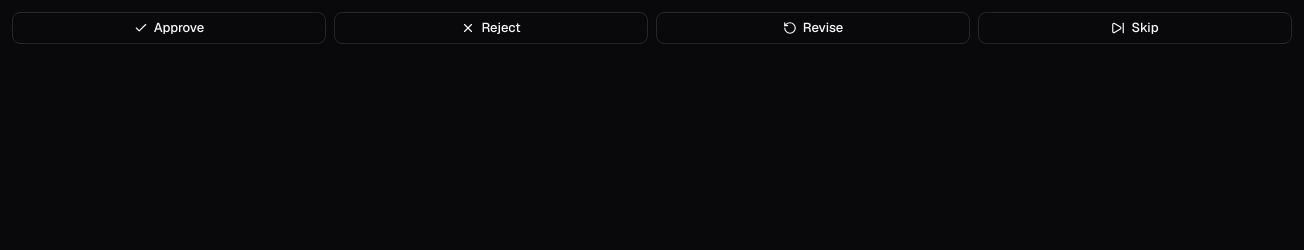
ReviewActions feedback_category required (Loop 8 close) › Confirm button is disabled when no issue is selected (Revise)
Click the button "Revise": (813, 28) x1=656 y1=12 x2=970 y2=44
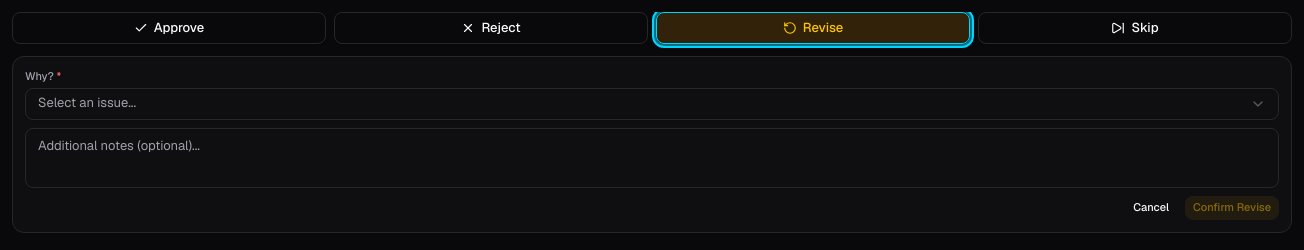
Now the button "Confirm Revise" is disabled, box x1=1185 y1=196 x2=1279 y2=220
